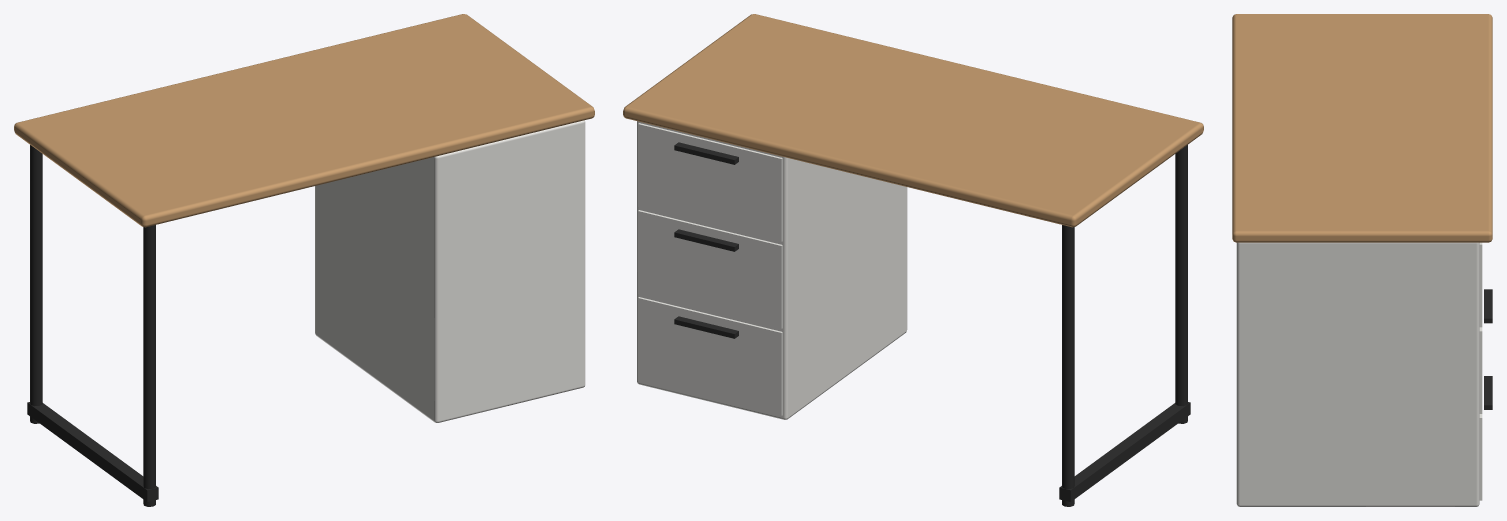
3 renders of one model, left to right at view 1: azimuth 30°, elevation 25°; view 2: azimuth 150°, elevation 25°; view 3: azimuth 270°, elevation 25°, orthographic.
Visible parts, largest first — view 1: drawer-unit, top, leg-2, leg-1, leg-bar; view 2: top, drawer-unit, drawer-3, drawer-2, drawer-1, leg-1, leg-2, leg-bar; view 3: drawer-unit, top, drawer-1, drawer-2, drawer-3, handle-2, handle-1.
Boxes of the visible parts, bbox=[...] form: drawer-unit: bbox=[315, 120, 585, 422]; top: bbox=[14, 14, 594, 227]; leg-2: bbox=[143, 225, 155, 506]; leg-1: bbox=[30, 145, 42, 423]; leg-bar: bbox=[27, 402, 158, 501]; top: bbox=[623, 14, 1203, 227]; drawer-unit: bbox=[637, 121, 907, 419]; drawer-3: bbox=[638, 123, 782, 241]; drawer-2: bbox=[638, 210, 782, 328]; drawer-1: bbox=[638, 297, 782, 415]; leg-1: bbox=[1062, 225, 1074, 506]; leg-2: bbox=[1175, 145, 1187, 423]; leg-bar: bbox=[1059, 402, 1190, 501]; drawer-unit: bbox=[1236, 242, 1479, 506]; top: bbox=[1232, 14, 1492, 242]; drawer-1: bbox=[1479, 414, 1482, 500]; drawer-2: bbox=[1479, 327, 1482, 413]; drawer-3: bbox=[1479, 242, 1482, 327]; handle-2: bbox=[1484, 289, 1492, 323]; handle-1: bbox=[1484, 376, 1492, 409].
Bounding box in the file's own units: 1.2 × 0.75 × 0.6.
